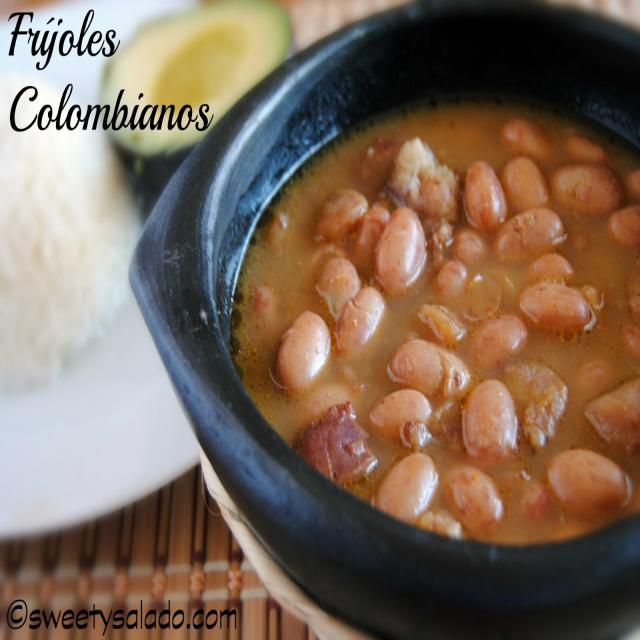frijoles: (255, 106, 634, 560)
